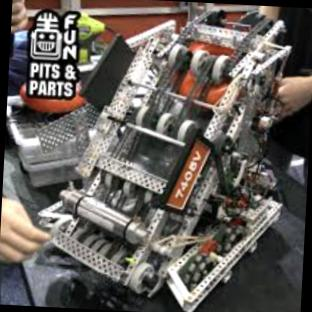Robot: (38, 11, 290, 312)
